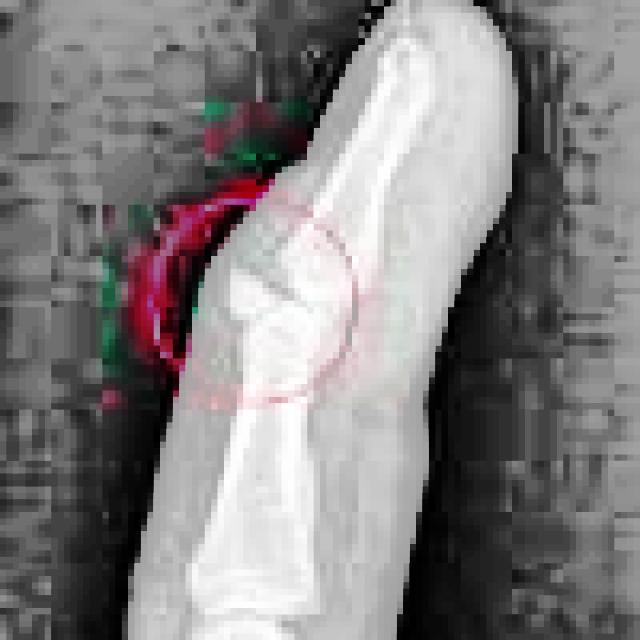Impact Fracture: (225, 252, 328, 351)
